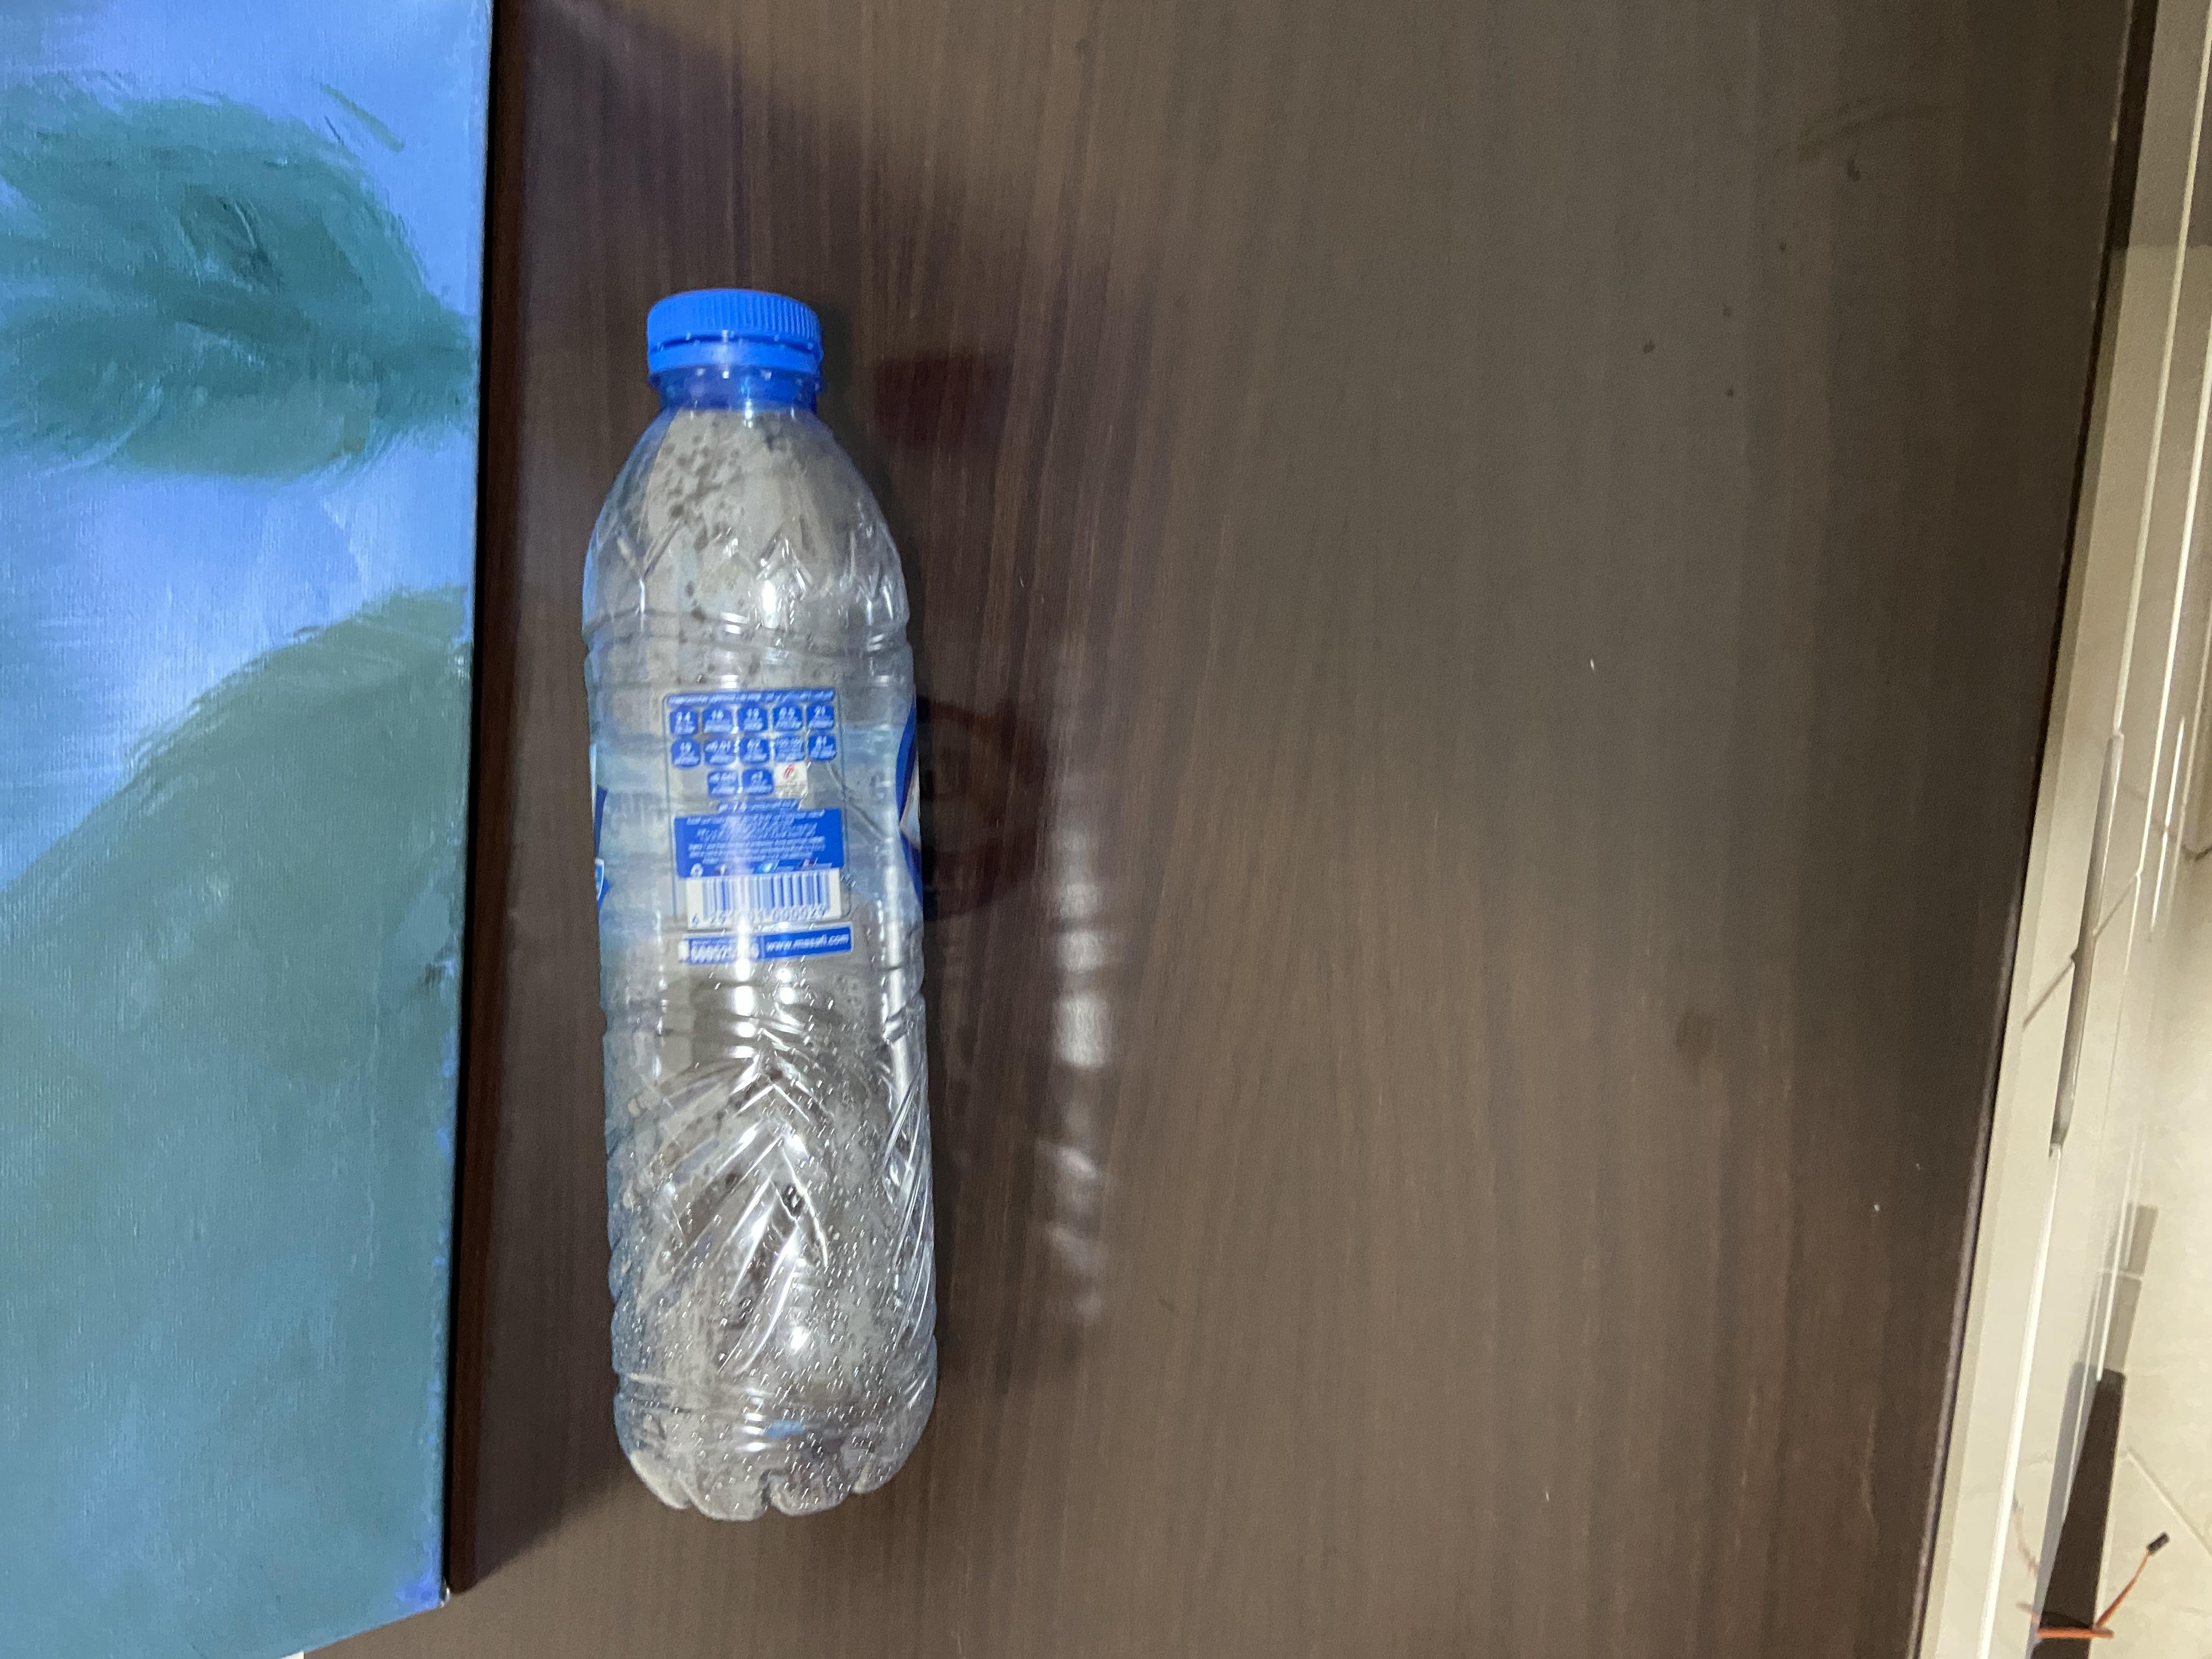bottle: (155, 416, 1853, 734)
